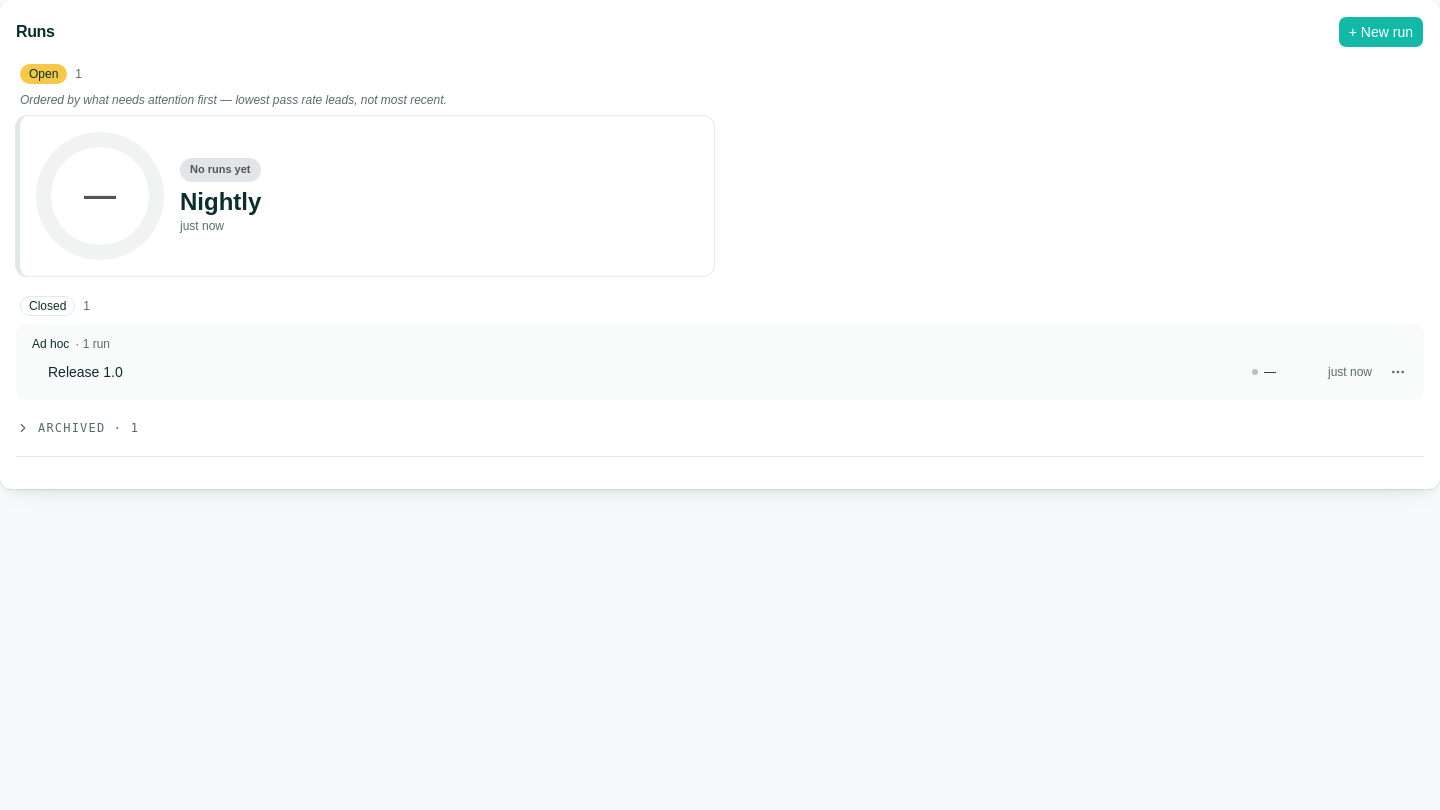
Test case: RunsPage › excludes archived runs from Open/Closed and shows them in a collapsed Archived section (auto-archive-runs)
Check: the link "— No runs yet Nightly just now" is shown, box [16,116,714,276]
Check: the link "old release" is not shown
What coordinates should you click on to do the following:
click the button with aria-label "expand archived"
I would click on:
 (78, 428)
Its box is [16,420,139,436].
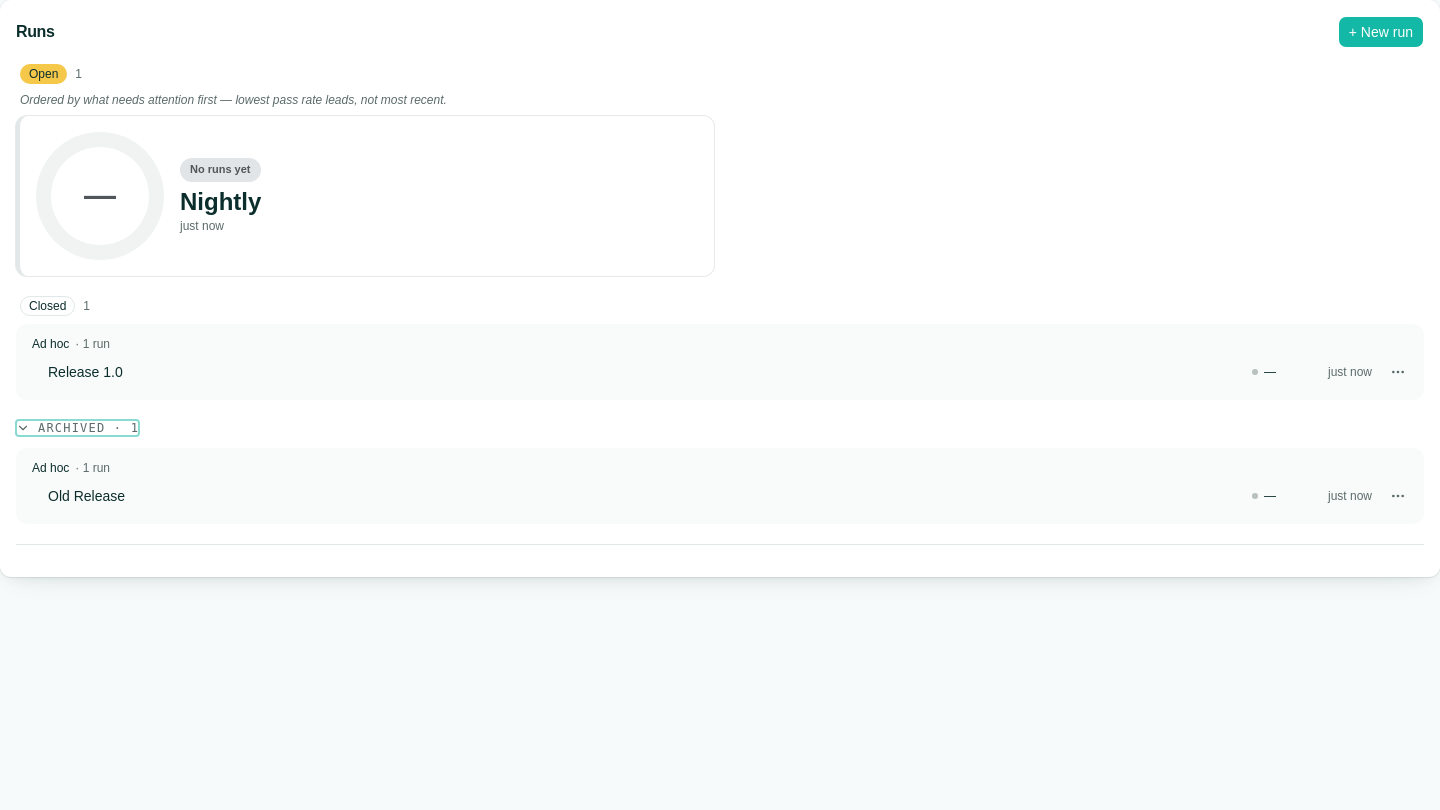
Check: the link "Old Release — just now" is shown, box [48,488,1372,504]
